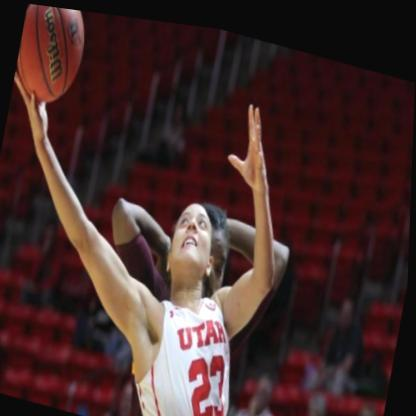basketball: (13, 2, 90, 106)
